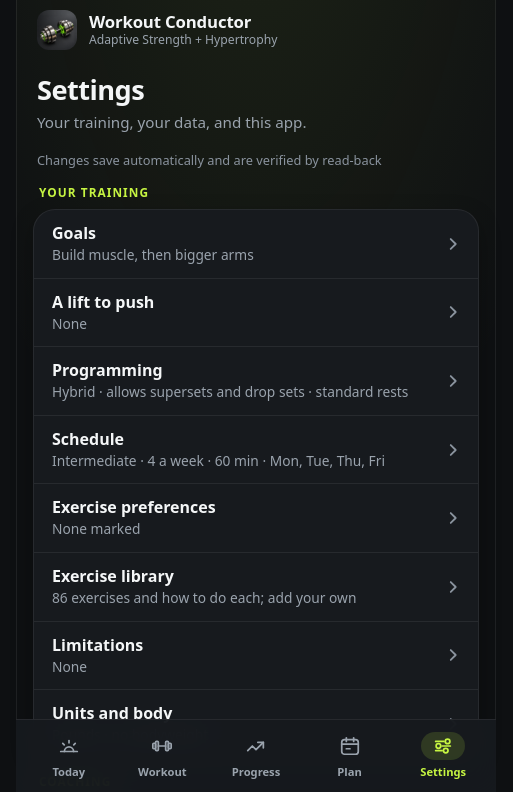
Test: App › autosaves a settings change with verification
The image size is (513, 792).
Expected: the heading "Settings" is shown, [37,71,144,108]
Click the button with test id "row-programming". click: point(256, 381)
box: [34,347,478,415]
(page scrolled)
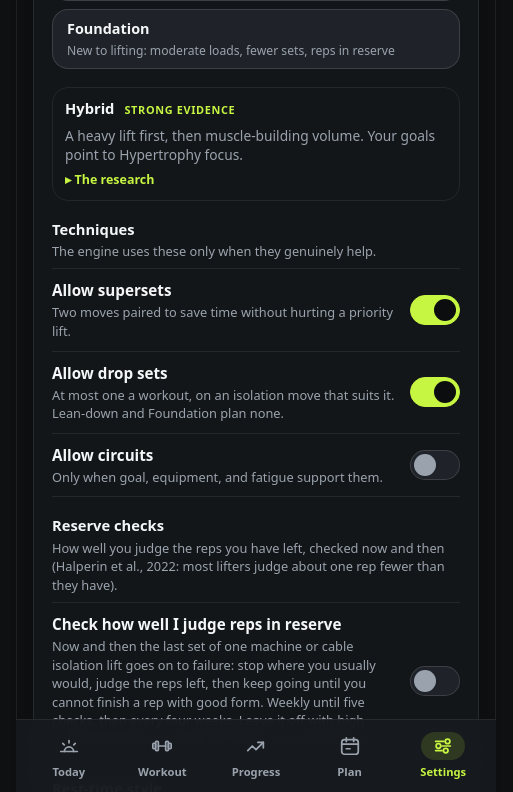
Click the switch labelled "Allow drop sets". click: point(256, 393)
box: [52,352,460,434]
(page scrolled)
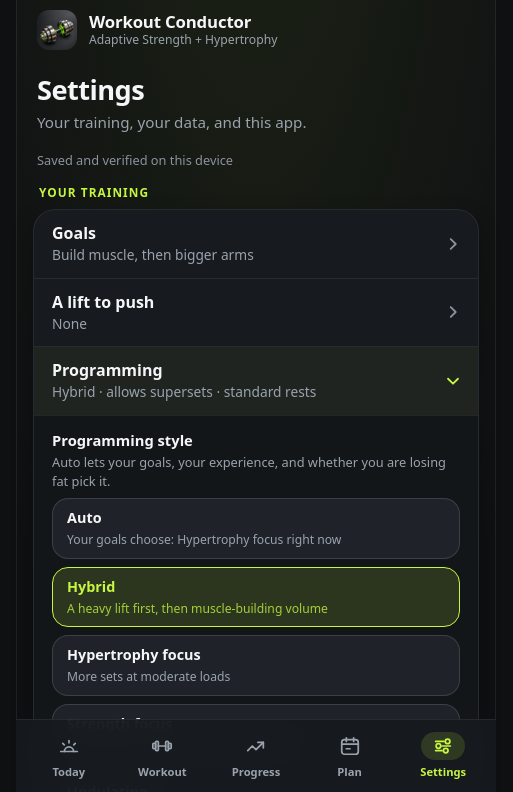
Expected: the text with test id "settings-save-status" shows "Saved and verified", [37,151,233,169]
